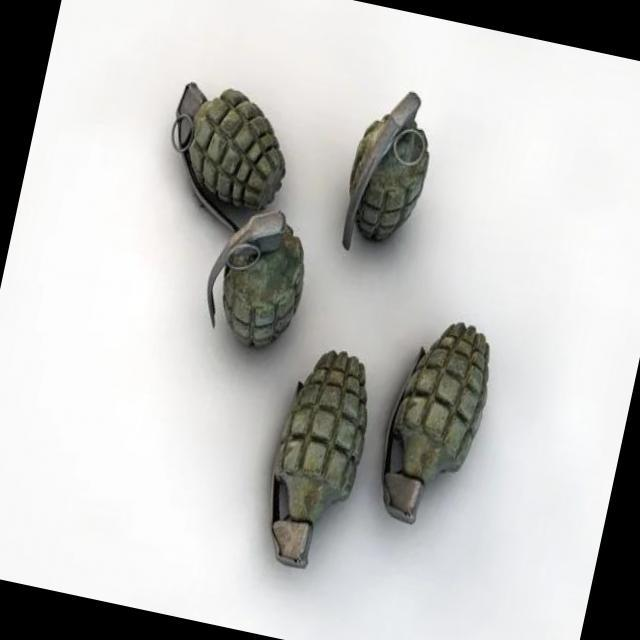grenade: (60, 49, 548, 614)
